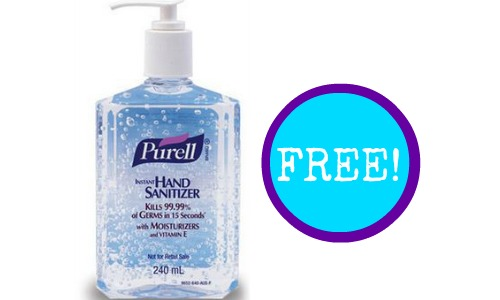Sanitizer: (89, 2, 246, 300)
